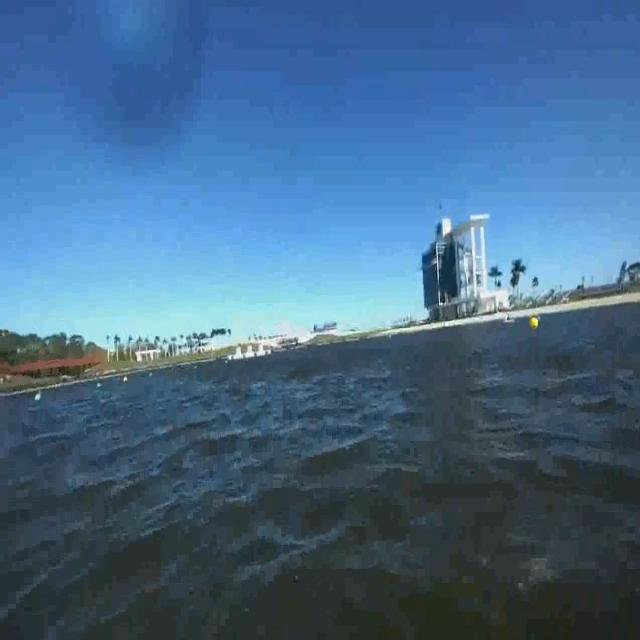yellow-buoy: (530, 315, 540, 331)
